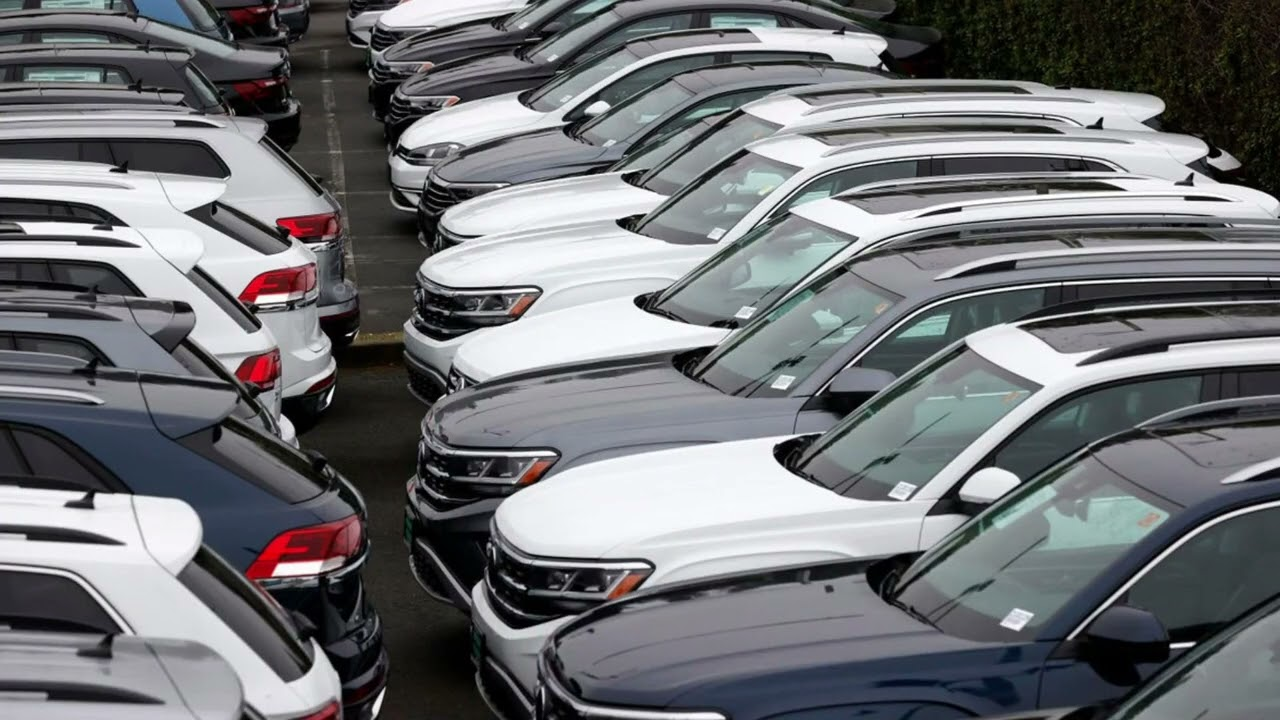Car: (470, 289, 1280, 720), (403, 215, 1280, 608), (533, 395, 1280, 720), (401, 111, 1219, 407), (448, 171, 1280, 392), (0, 350, 388, 720), (430, 79, 1245, 254), (386, 27, 915, 214), (418, 59, 904, 249), (384, 0, 946, 164), (0, 157, 338, 428), (0, 104, 361, 350), (0, 486, 343, 720), (0, 213, 300, 450), (367, 0, 898, 122), (0, 278, 281, 438), (0, 7, 302, 152), (982, 594, 1280, 720), (0, 629, 258, 720), (0, 42, 236, 116), (366, 0, 541, 69), (0, 0, 233, 40), (606, 109, 731, 172), (0, 81, 191, 107), (208, 0, 291, 47), (346, 0, 409, 49), (278, 0, 310, 42)
